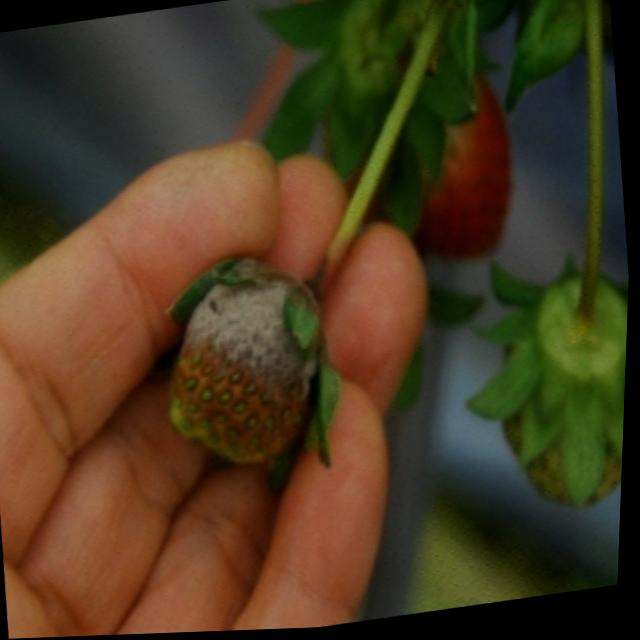Gray Mold: (169, 254, 345, 492)
